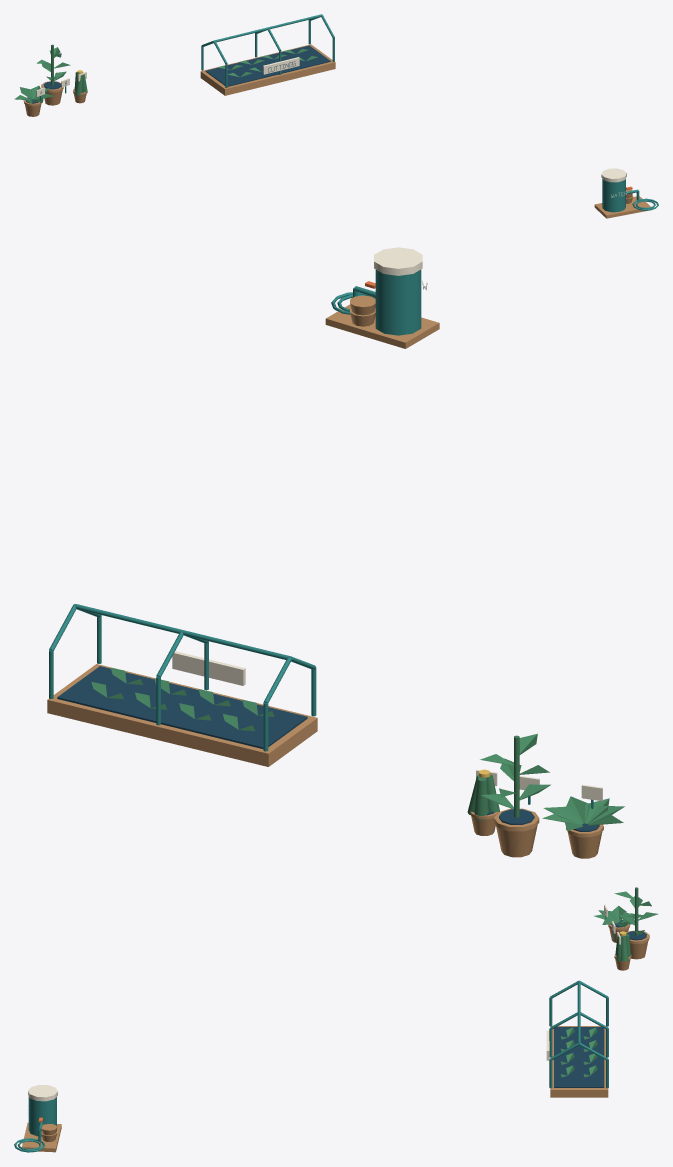
The model's file is visionx.glb.
3 views of the same model, one above another, from view 1: azimuth 30°, elevation 25°; view 2: azimuth 150°, elevation 25°; view 3: azimuth 270°, elevation 25° (orthographic). The views are drawn at different scales.
Parts seen in each view (by area): view 1: static_detail_wood, static_detail_navy, static_detail_teal, static_detail_leaf, static_detail_ivory; view 2: static_detail_wood, static_detail_navy, static_detail_teal, static_detail_leaf, static_detail_ivory; view 3: static_detail_navy, static_detail_teal, static_detail_wood, static_detail_leaf, static_detail_ivory.
Boxes of the visible parts, left/top/right/bottom form: static_detail_wood: left=23, top=44, right=650, bottom=218; static_detail_navy: left=26, top=45, right=330, bottom=103; static_detail_teal: left=40, top=14, right=658, bottom=212; static_detail_leaf: left=14, top=44, right=317, bottom=103; static_detail_ivory: left=36, top=57, right=627, bottom=197; static_detail_wood: left=47, top=295, right=603, bottom=858; static_detail_navy: left=57, top=666, right=599, bottom=831; static_detail_teal: left=49, top=269, right=593, bottom=808; static_detail_leaf: left=91, top=667, right=624, bottom=830; static_detail_ivory: left=172, top=247, right=602, bottom=800; static_detail_navy: left=554, top=910, right=646, bottom=1087; static_detail_teal: left=14, top=915, right=614, bottom=1152; static_detail_wood: left=22, top=919, right=649, bottom=1152; static_detail_leaf: left=560, top=887, right=658, bottom=1077; static_detail_ivory: left=28, top=904, right=620, bottom=1101.
Size of the model in its own units: 11.75 by 1.63 by 14.1.
